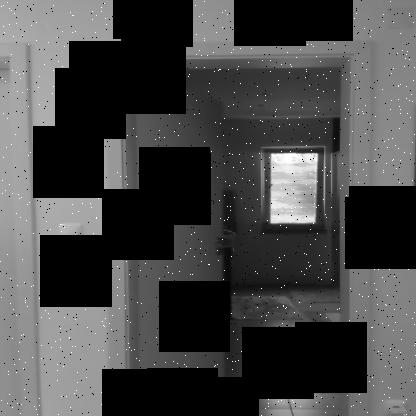Porte: (100, 36, 377, 416)
